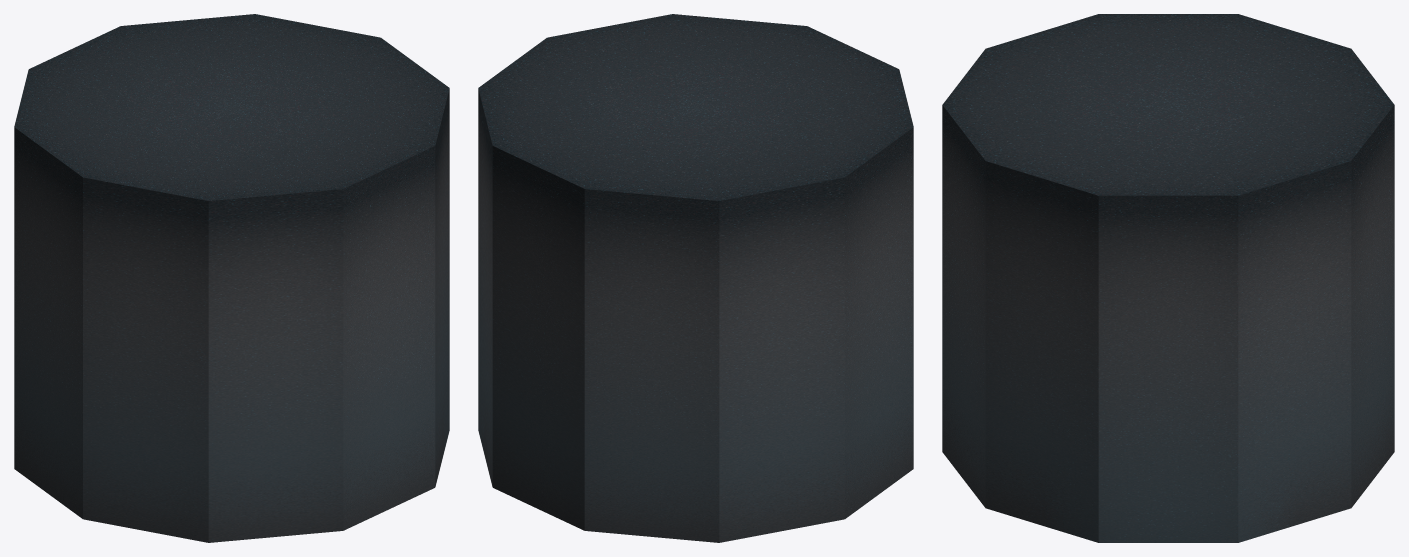
Rendered from Room.obj.
The picture shows the model from 3 angles, left to right: view 1: azimuth 30°, elevation 25°; view 2: azimuth 150°, elevation 25°; view 3: azimuth 270°, elevation 25°; orthographic projection.
Parts seen in each view (by area): view 1: Cylinder_Cylinder.003; view 2: Cylinder_Cylinder.003; view 3: Cylinder_Cylinder.003.
Boxes of the visible parts, x1,y1,x2,y2 form: Cylinder_Cylinder.003: (14,14,449,542); Cylinder_Cylinder.003: (478,14,913,542); Cylinder_Cylinder.003: (942,14,1394,542).
Size of the model in its own units: 1.68 by 1.5 by 1.77.
1 material, 1 textured.
